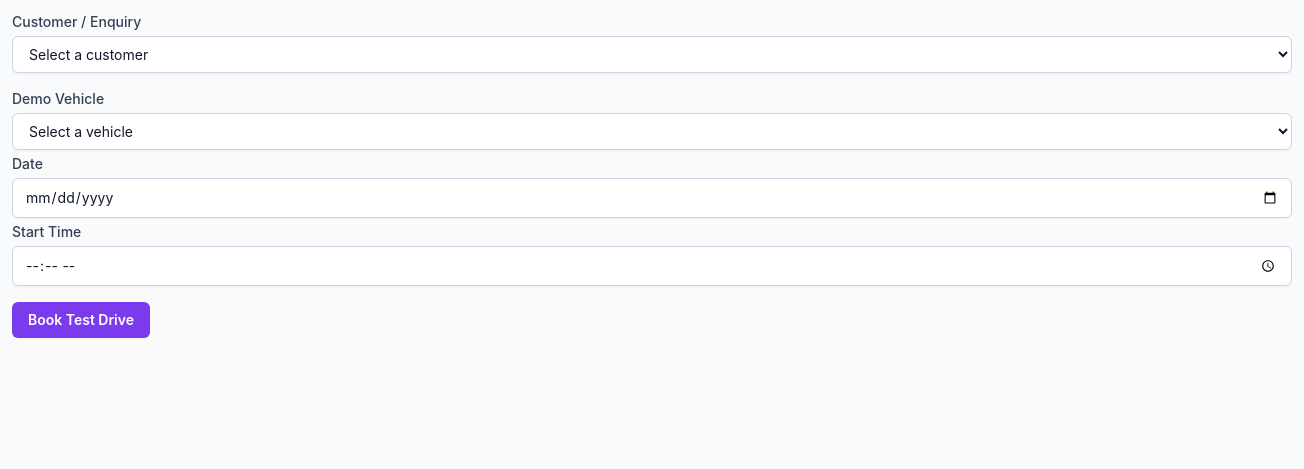
Test: NewTestDriveForm › issue #36 AC1/AC2: a 409 conflict shows a form-level message and the suggested nearest open slots
Select "Walk-in Customer — LX" in the dropdown labelled "Customer / Enquiry": point(652, 54) [12,36,1292,73]
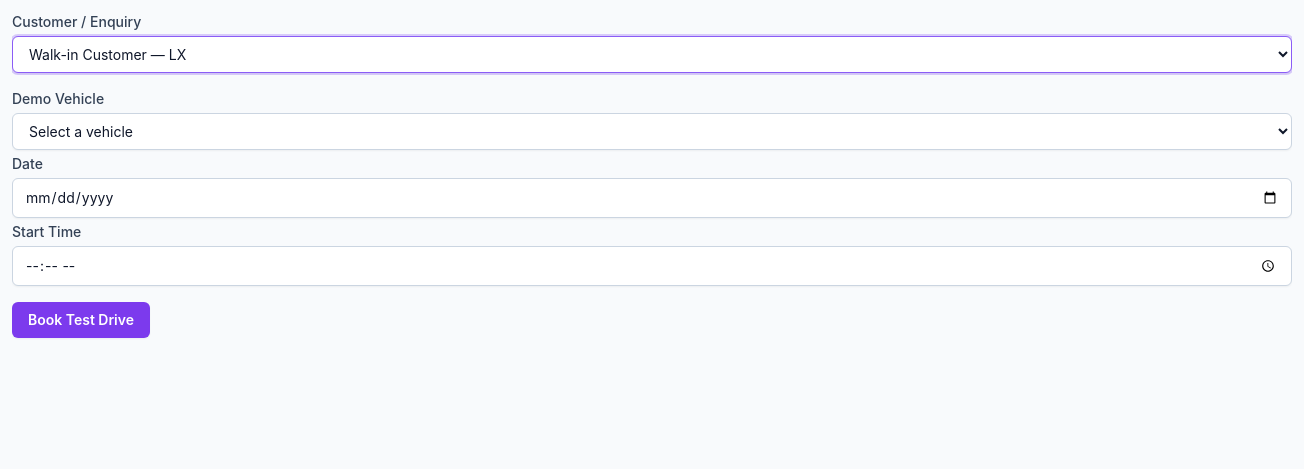
Select "Compact Hatchback LX — LX" in the dropdown labelled "Demo Vehicle": point(652, 132) [12,113,1292,150]
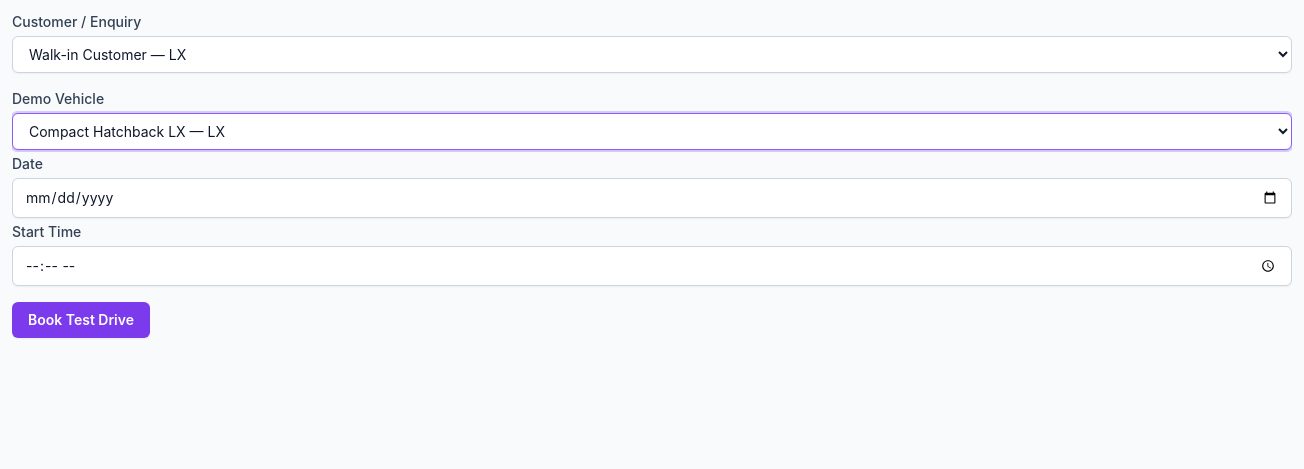
In the date field labelled "Date": point(652, 198) [12,178,1292,218], type "2026-08-01"
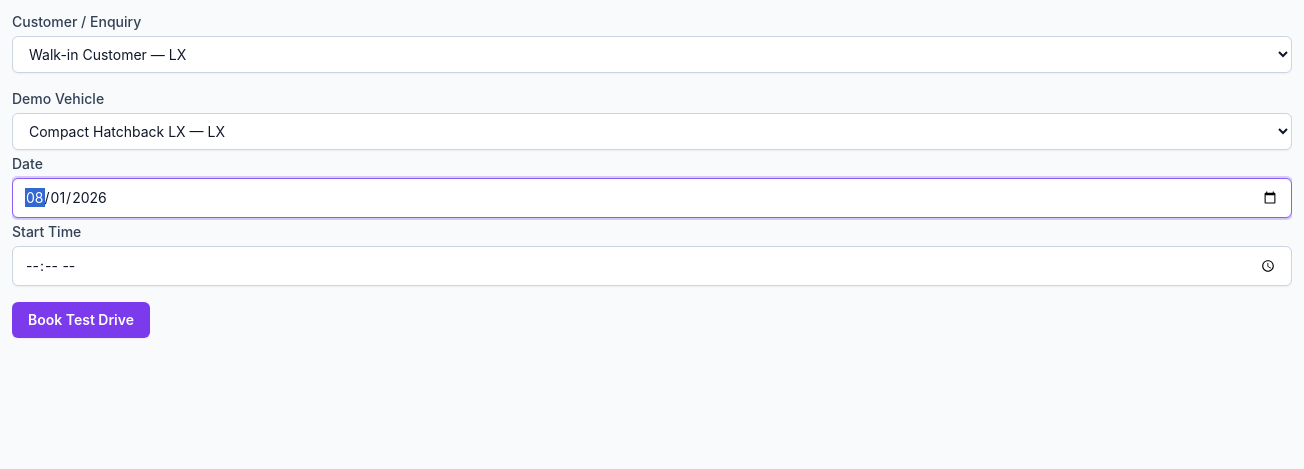
In the time field labelled "Start Time": point(652, 266) [12,246,1292,286], type "10:00"
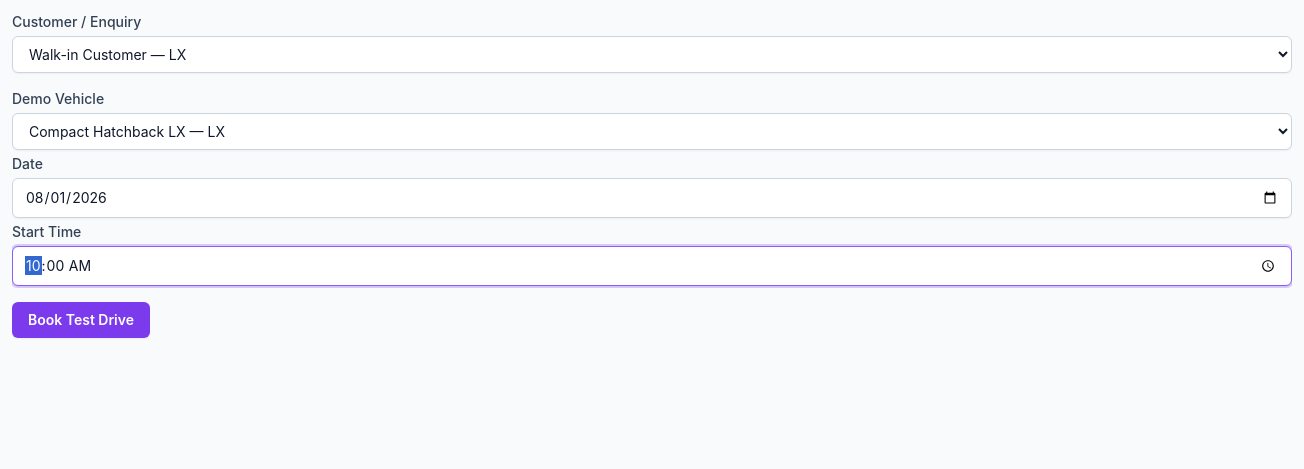
Click the button "Book Test Drive": point(81, 320) [12,302,150,338]
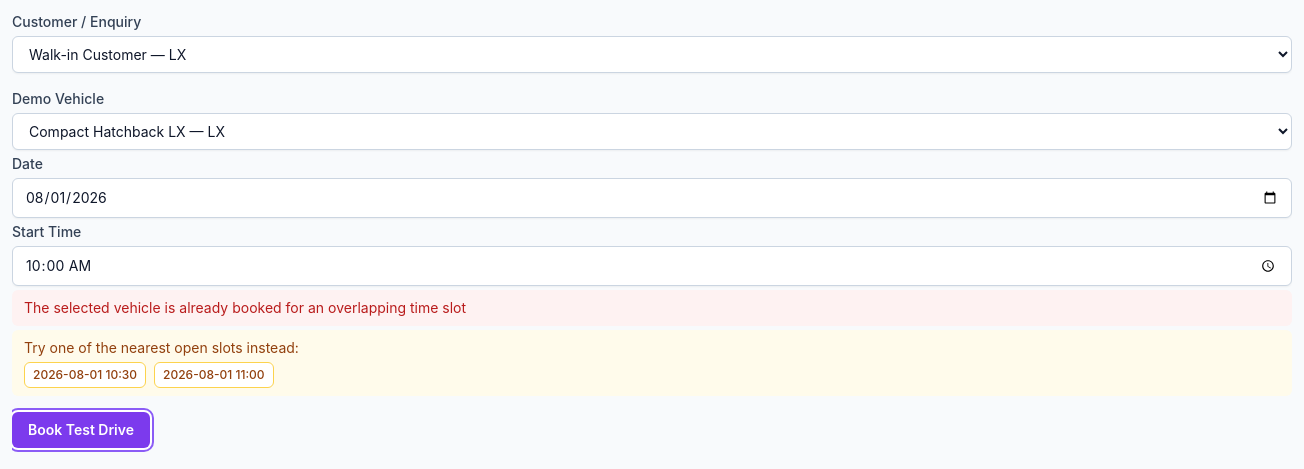
Result: the text "The selected vehicle is already booked for an overlapping time slot" is shown at [12,290,1292,326]
Result: the text "Try one of the nearest open slots instead:" is shown at [24,339,299,356]
Result: the button "2026-08-01 10:30" is shown at [24,362,146,388]
